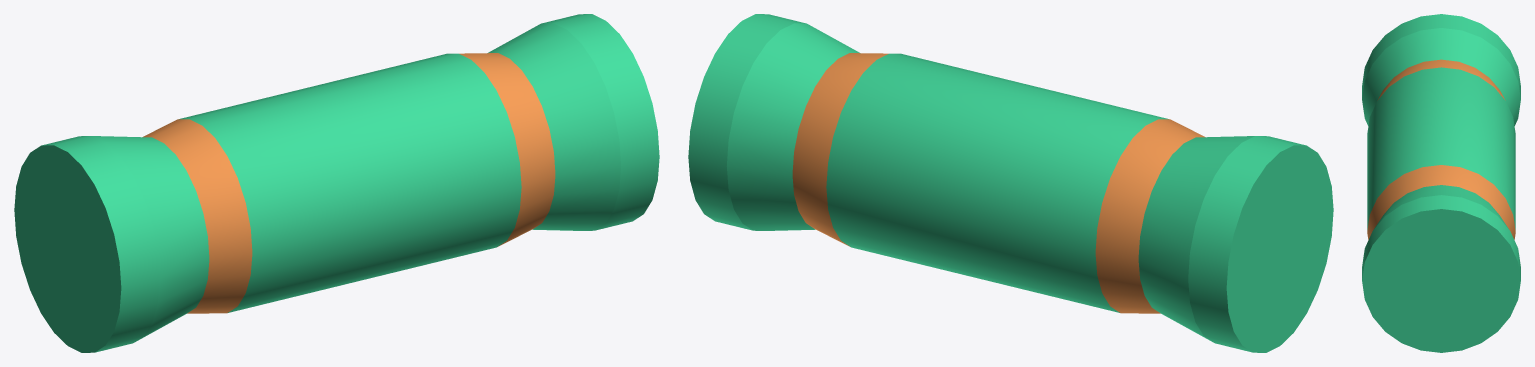
The model's file is Bedroll.glb.
3 views of the same model, side by side, from view 1: azimuth 30°, elevation 25°; view 2: azimuth 150°, elevation 25°; view 3: azimuth 270°, elevation 25° (orthographic). The views are drawn at different scales.
Parts seen in each view (by area): view 1: bedrollPacked; view 2: bedrollPacked; view 3: bedrollPacked.
Part boxes in pixels (box(x1,y1,x2,y2)): bedrollPacked: box(14, 14, 659, 352); bedrollPacked: box(688, 14, 1333, 352); bedrollPacked: box(1362, 14, 1520, 352).
Bounding box in the file's own units: 0.2604 × 0.0897 × 0.0897.
